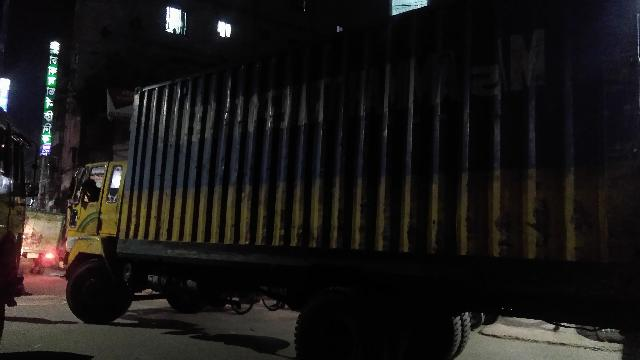truck: (66, 10, 640, 360)
